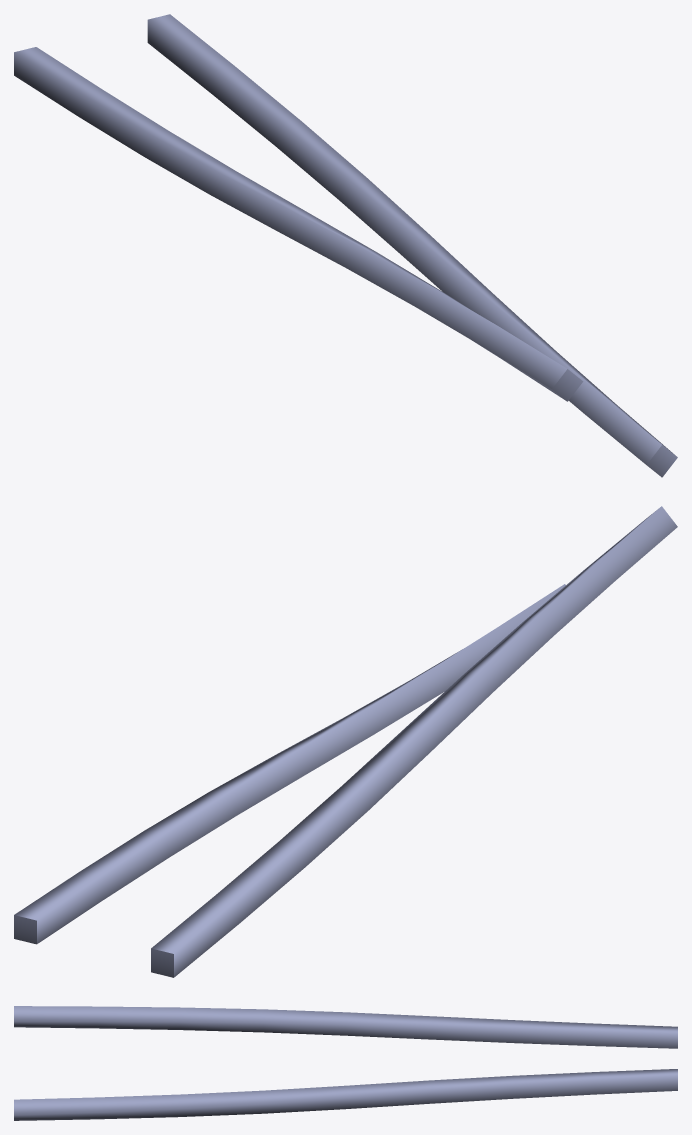
File: railroad-rail-straight-skew-left.glb
3 views of the same model, one above another, from view 1: azimuth 30°, elevation 25°; view 2: azimuth 150°, elevation 25°; view 3: azimuth 270°, elevation 25° (orthographic). The views are drawn at different scales.
Visible parts, largest first — view 1: railroad-rail-straight-skew-left; view 2: railroad-rail-straight-skew-left; view 3: railroad-rail-straight-skew-left.
Part boxes in pixels (x1=…): railroad-rail-straight-skew-left: x1=14, y1=14, x2=677, y2=477; railroad-rail-straight-skew-left: x1=14, y1=506, x2=677, y2=977; railroad-rail-straight-skew-left: x1=14, y1=1006, x2=677, y2=1120.
Bounding box in the file's own units: 0.714 × 0.5657 × 4.
